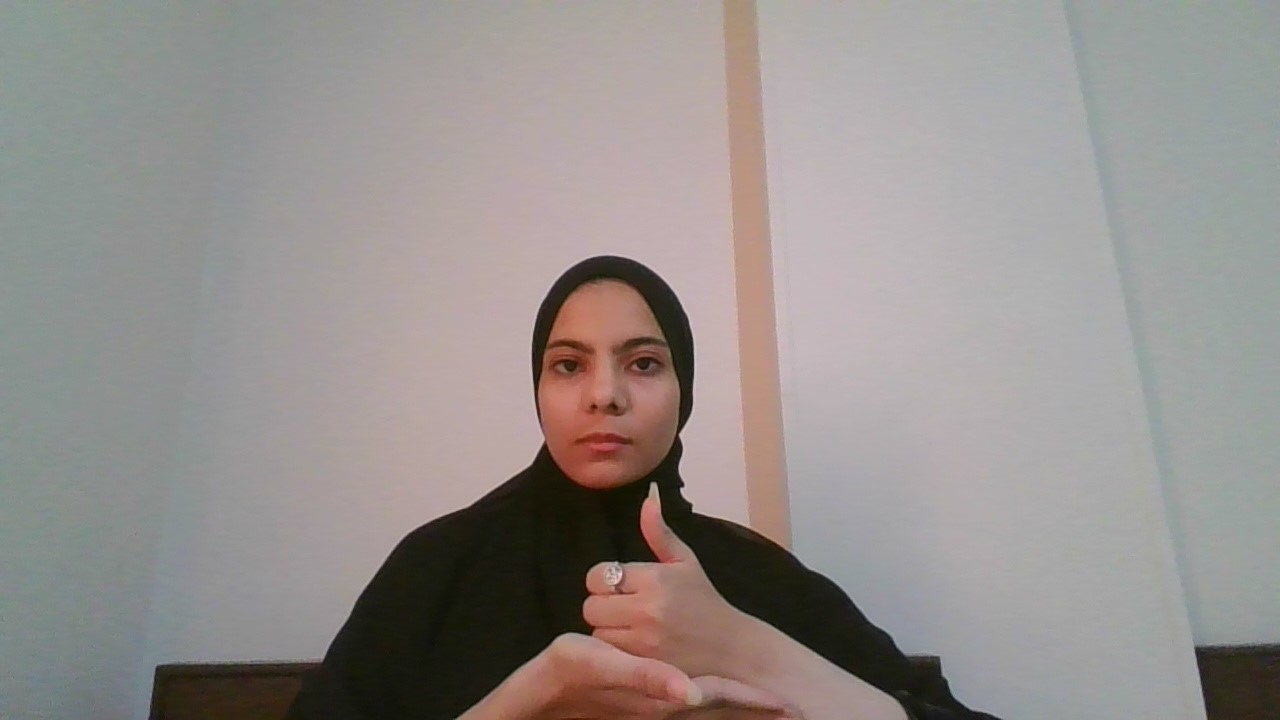help: (568, 480, 745, 687)
